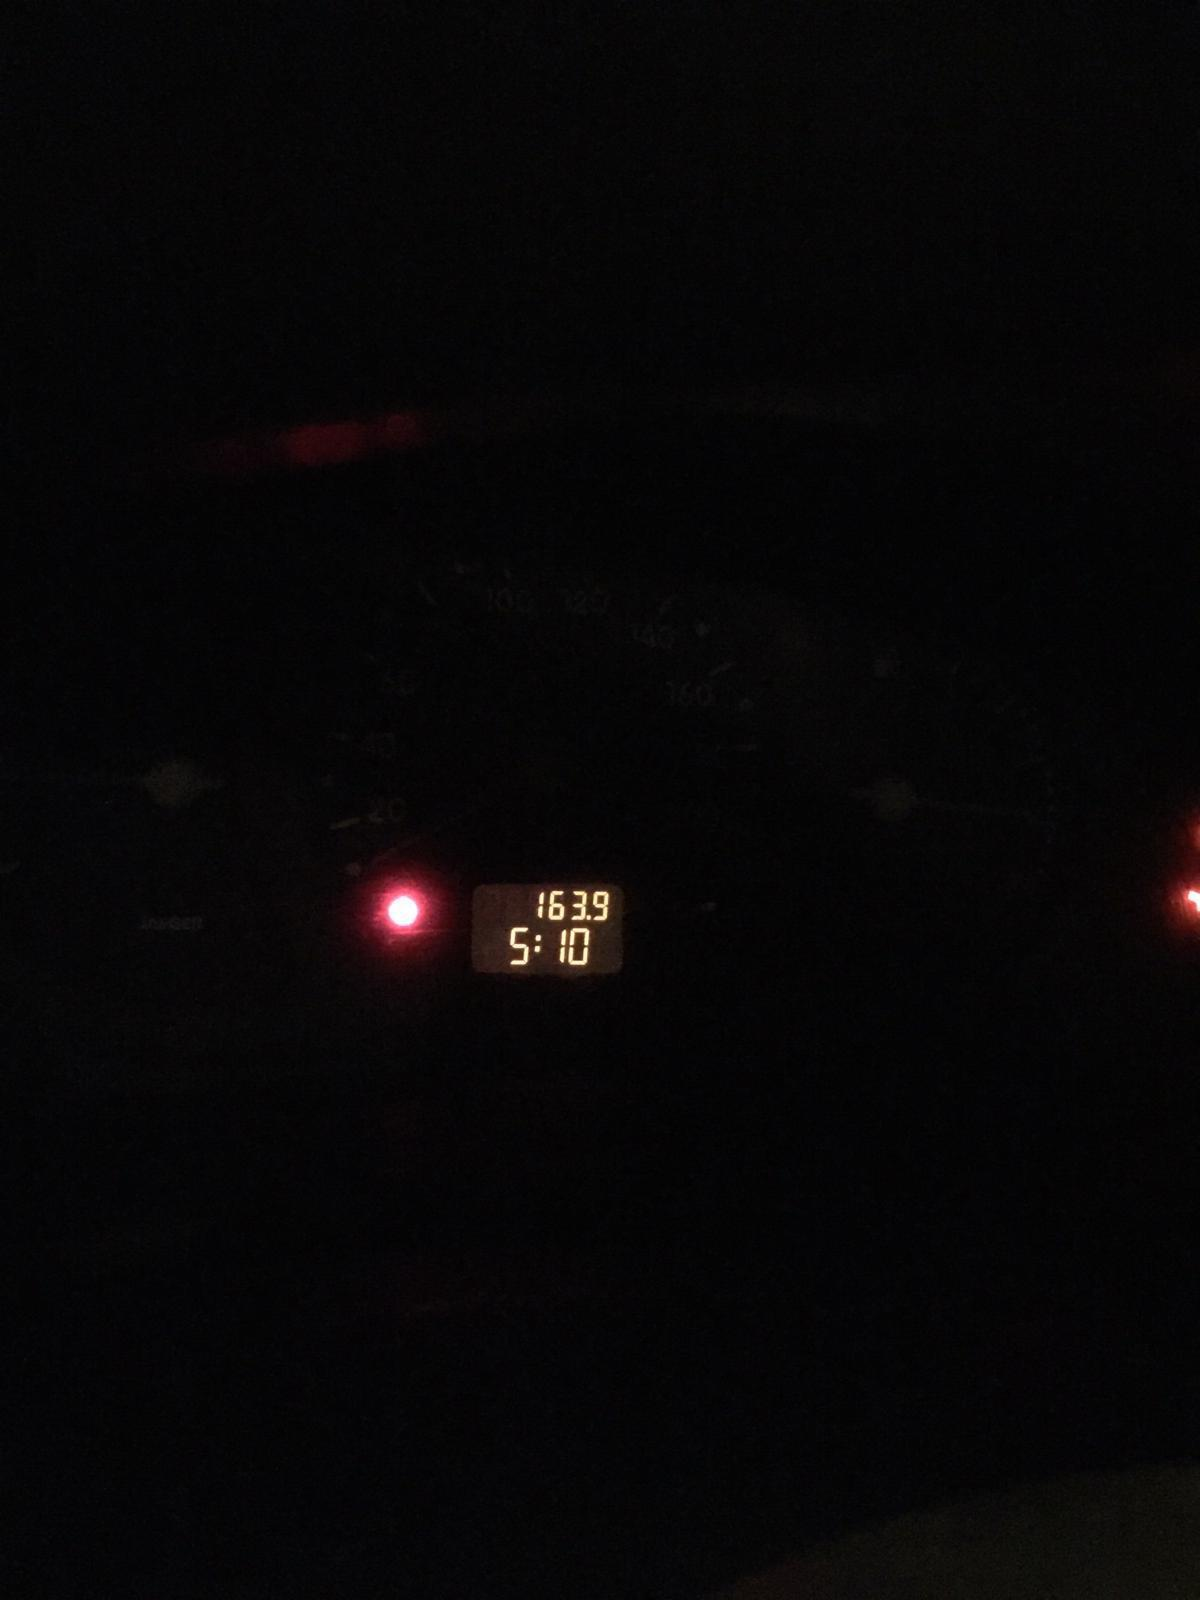,: (585, 913, 592, 921)
0: (567, 926, 590, 965)
1: (558, 927, 567, 963), (536, 891, 545, 918)
3: (570, 889, 587, 920)
5: (508, 926, 529, 965)
6: (547, 889, 566, 921)
9: (591, 891, 609, 921)
X: (533, 934, 542, 952)
odometer: (468, 879, 626, 978)
